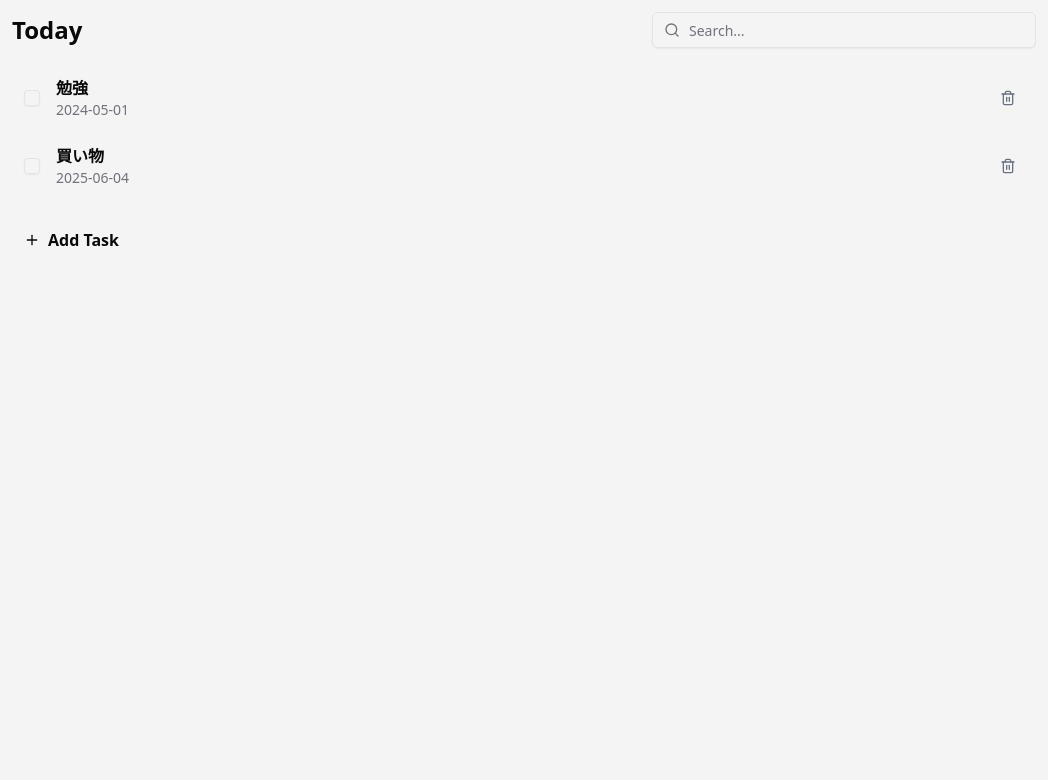
it: TodoList integration with MSW › 検索ボックスでEnterキーを押すとキーワードに部分一致するタスクが表示される
Click the button "Add Task" at coordinates (83, 240), box [12,216,1036,264]
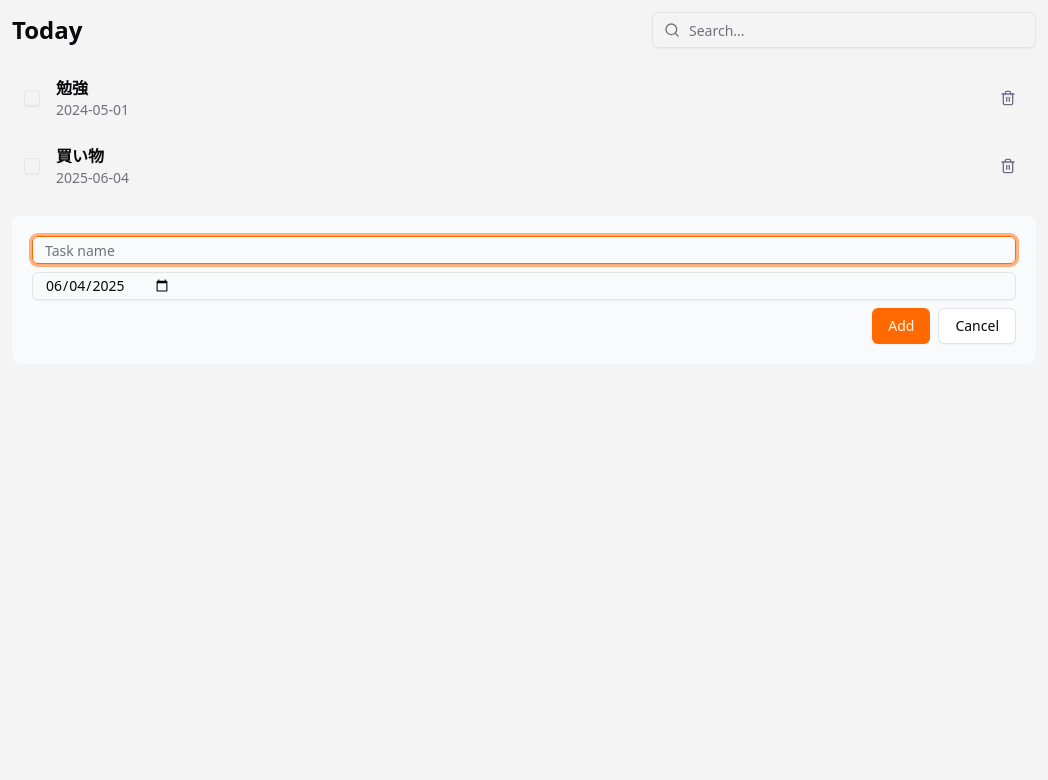
Type "検索用タスク" into the field with placeholder "Task name" at coordinates (524, 250), box [32,236,1016,264]
Click the button "Add" at coordinates (901, 326), box [872,308,930,344]
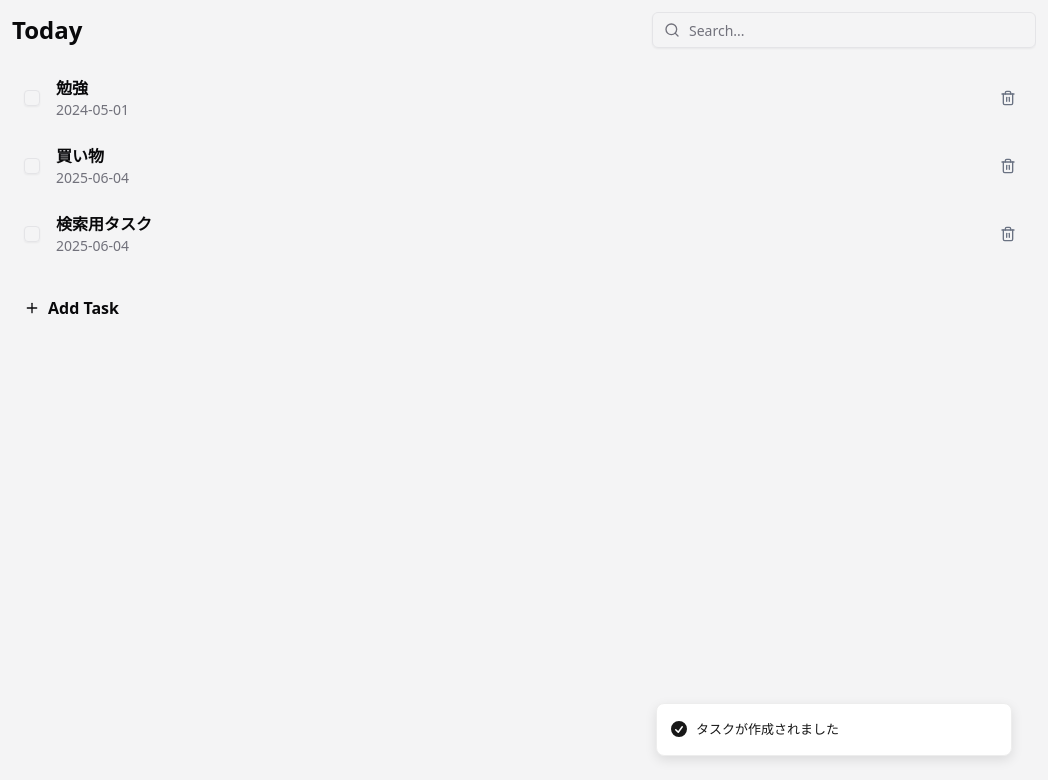
// 表示されないタスク
Click the button "Add Task" at coordinates (83, 308), box [12,284,1036,332]
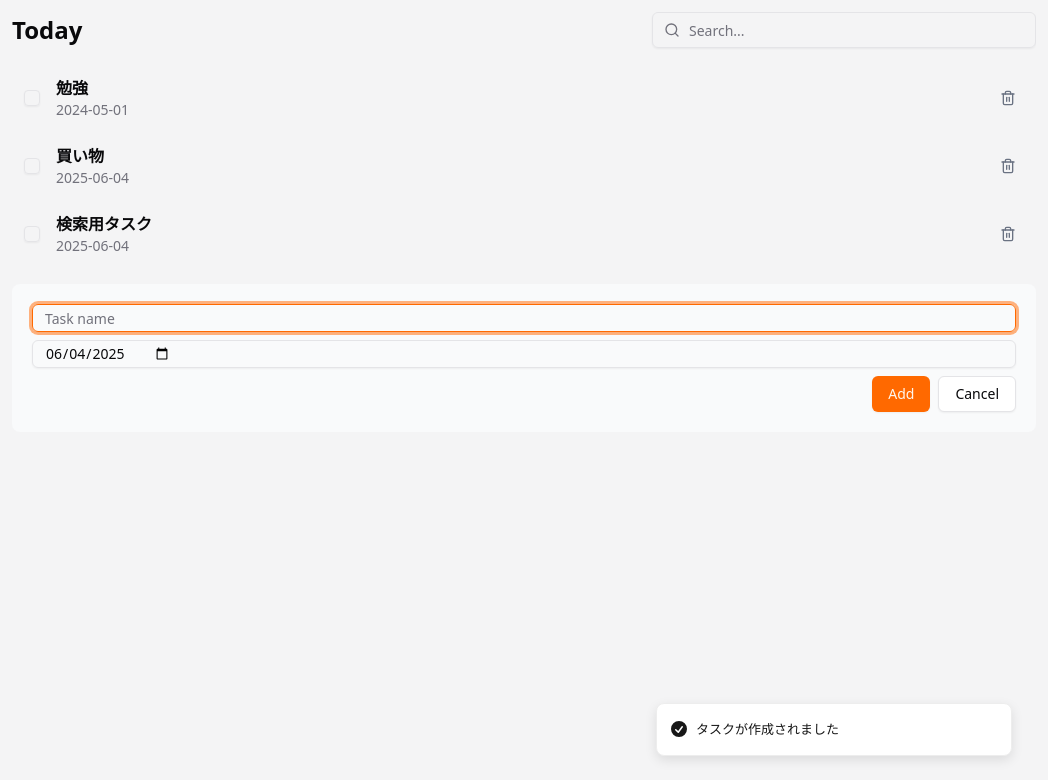
Type "失敗用タスク" into the field with placeholder "Task name" at coordinates (524, 318), box [32,304,1016,332]
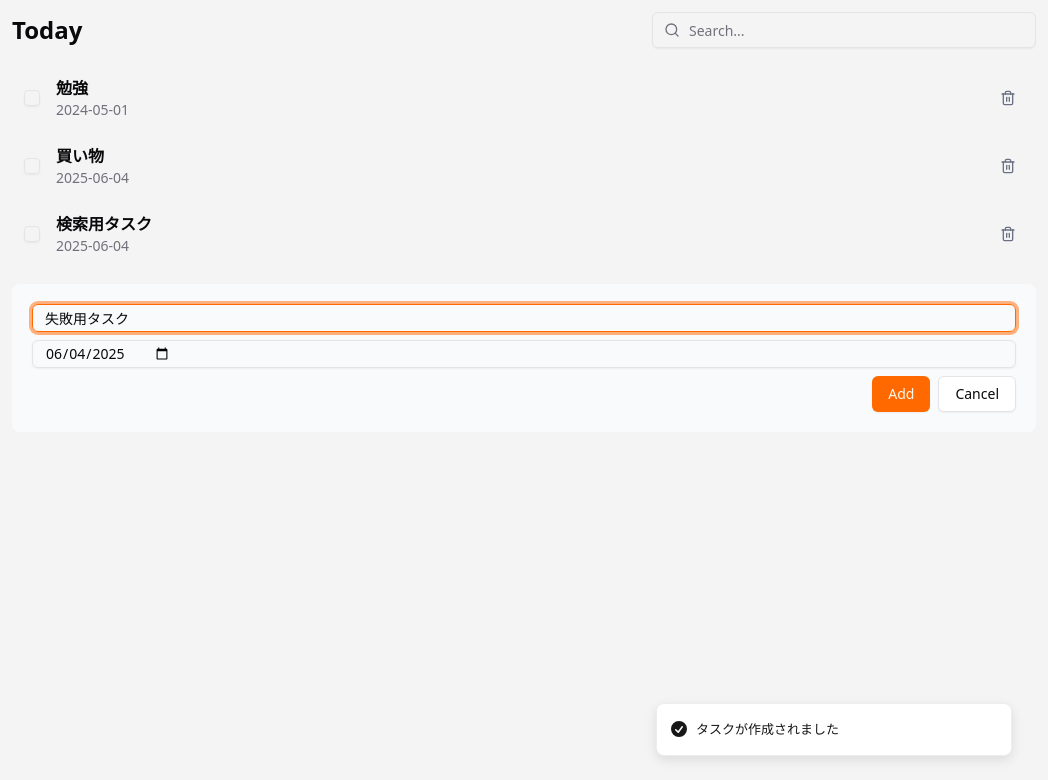
Click the button "Add" at coordinates (901, 394), box [872,376,930,412]
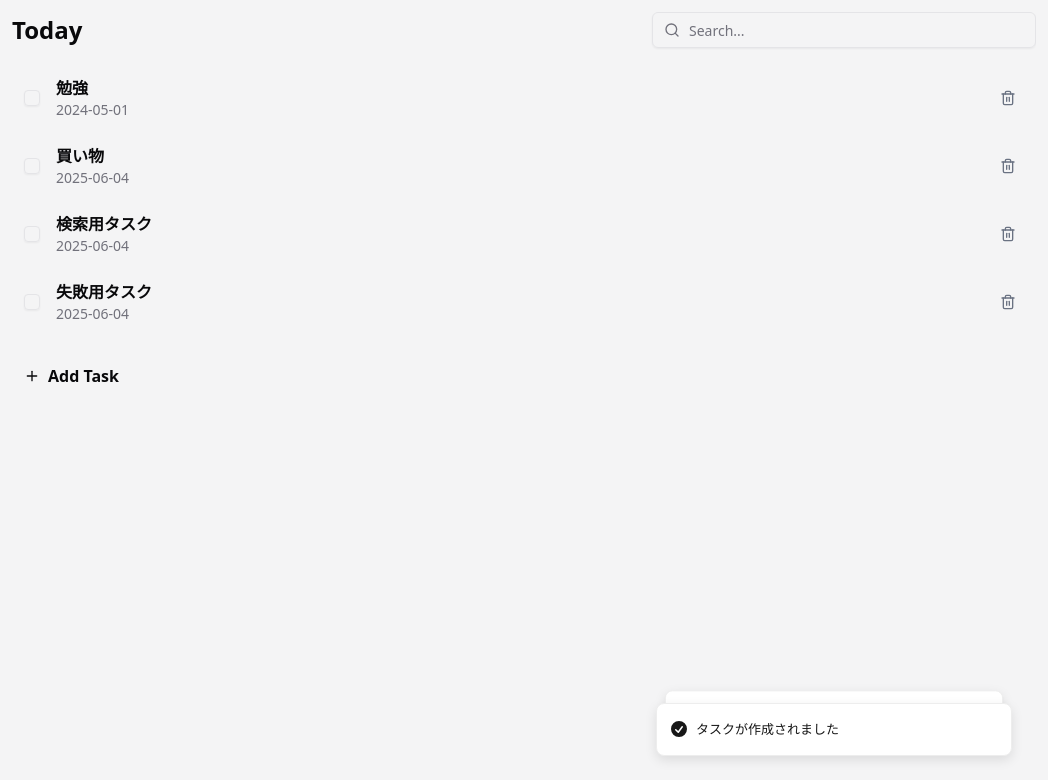
expect the text "検索用タスク" is shown: met, box [56,212,152,236]
expect the text "失敗用タスク" is shown: met, box [56,280,152,304]
// 検索ボックスにキーワードを入力
Type "検索" into the field with placeholder "Search..." at coordinates (844, 30), box [652,12,1036,48]
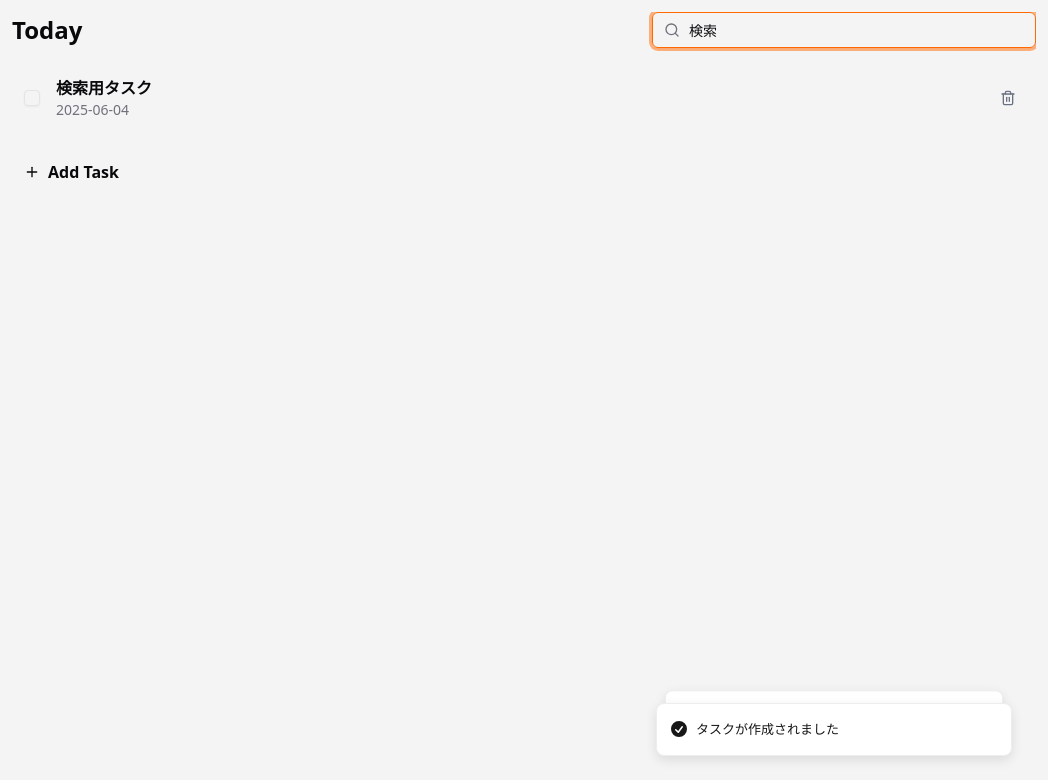
expect the text "検索用タスク" is shown: met, box [56,76,152,100]
expect the button "失敗用タスク" is gone: met
